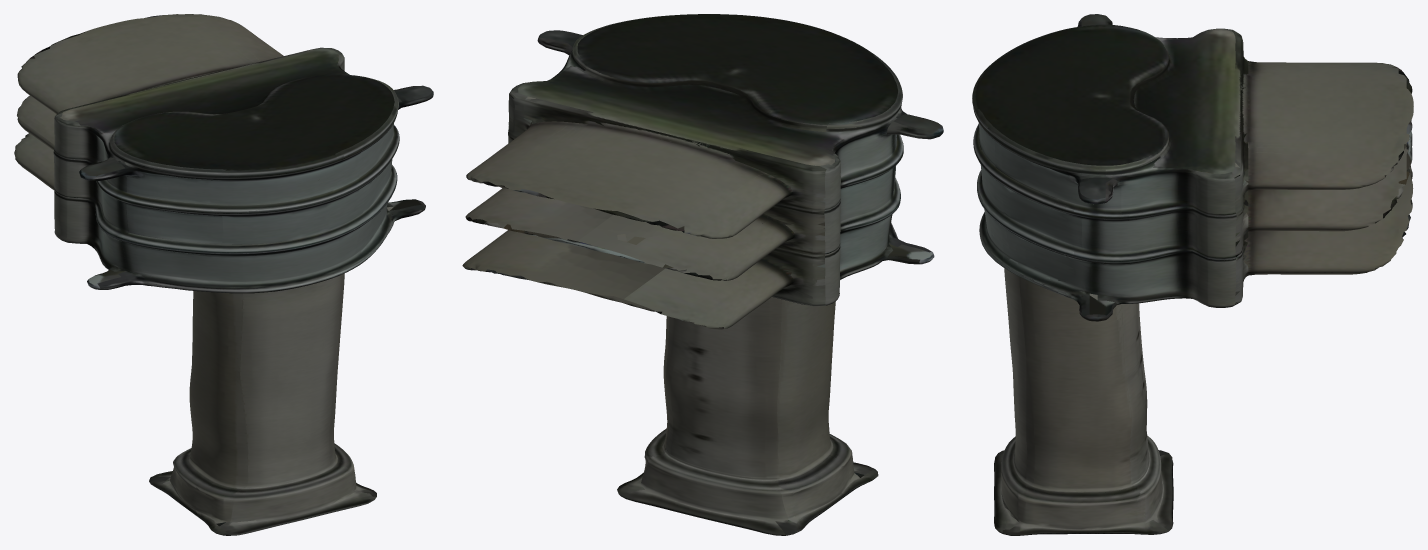
File: street-traffic-light.glb
3 renders of one model, left to right at view 1: azimuth 30°, elevation 25°; view 2: azimuth 150°, elevation 25°; view 3: azimuth 270°, elevation 25°, orthographic. The views are drawn at different scales.
Parts seen in each view (by area): view 1: tmp06ccpaca.ply; view 2: tmp06ccpaca.ply; view 3: tmp06ccpaca.ply.
Boxes of the visible parts, x1,y1,x2,y2 form: tmp06ccpaca.ply: (14, 14, 433, 535); tmp06ccpaca.ply: (462, 14, 943, 535); tmp06ccpaca.ply: (972, 14, 1413, 535).
Bounding box in the file's own units: 1 × 1 × 1.
1 material, 1 textured.
